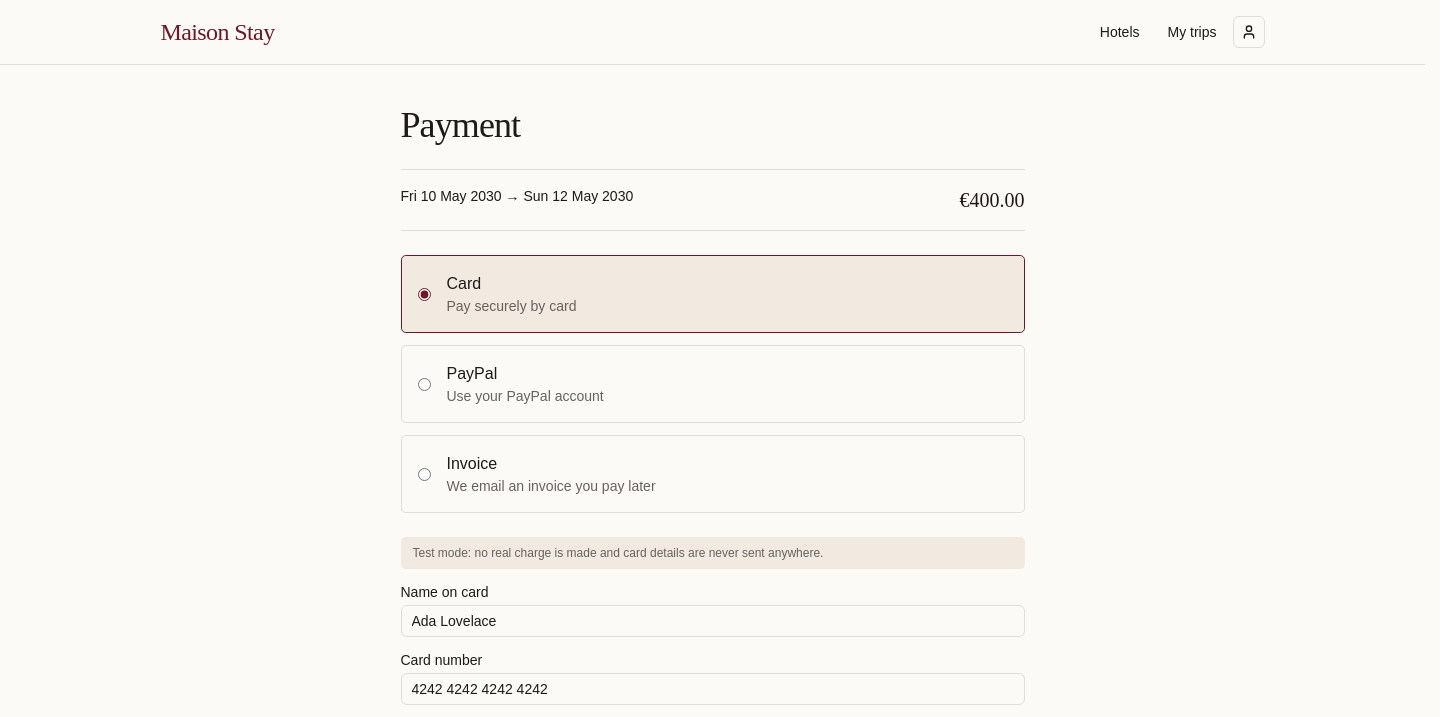
Test: payment › waits for the invoice to be settled instead of simulating a payment
Click the radio button labelled "Invoice We email an invoice you pay later" at point(424, 474), box [418, 468, 430, 480]
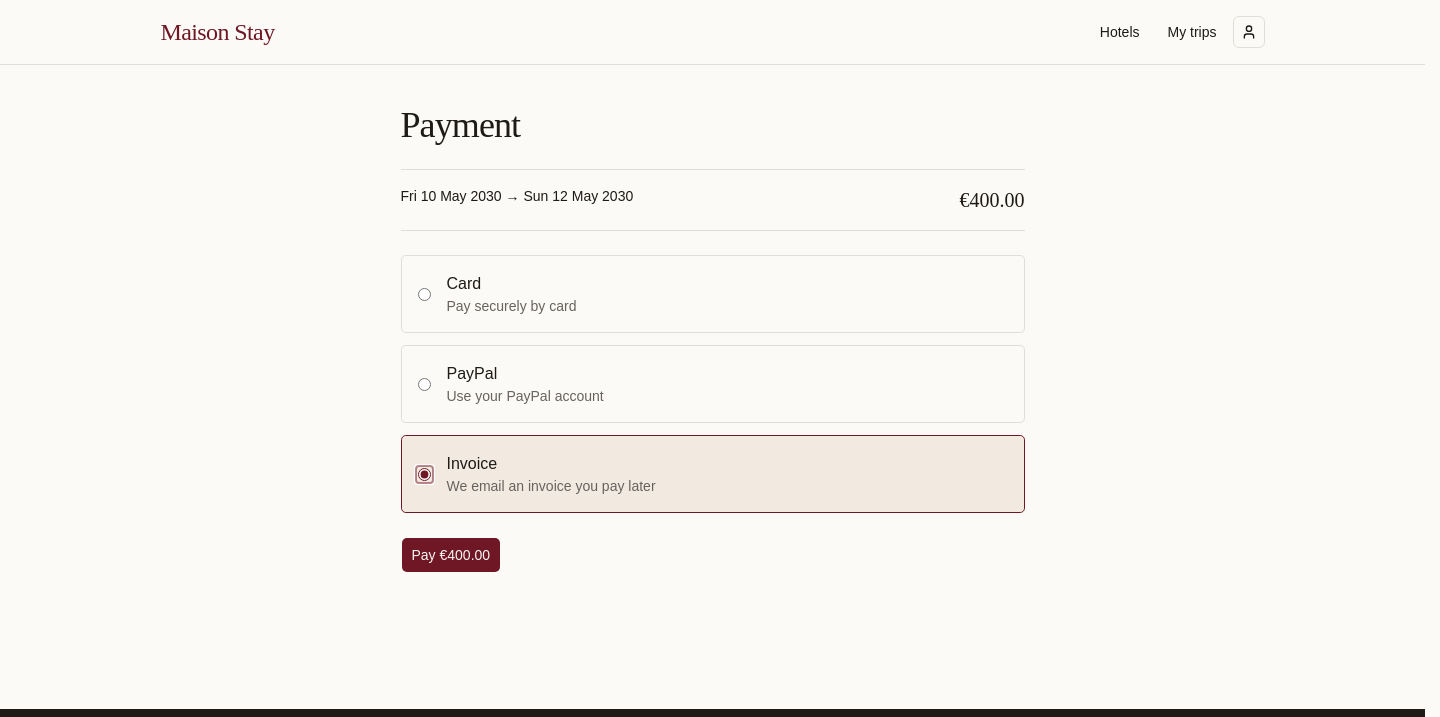
Click the button "Pay €400.00" at point(451, 555), box [400, 537, 501, 573]
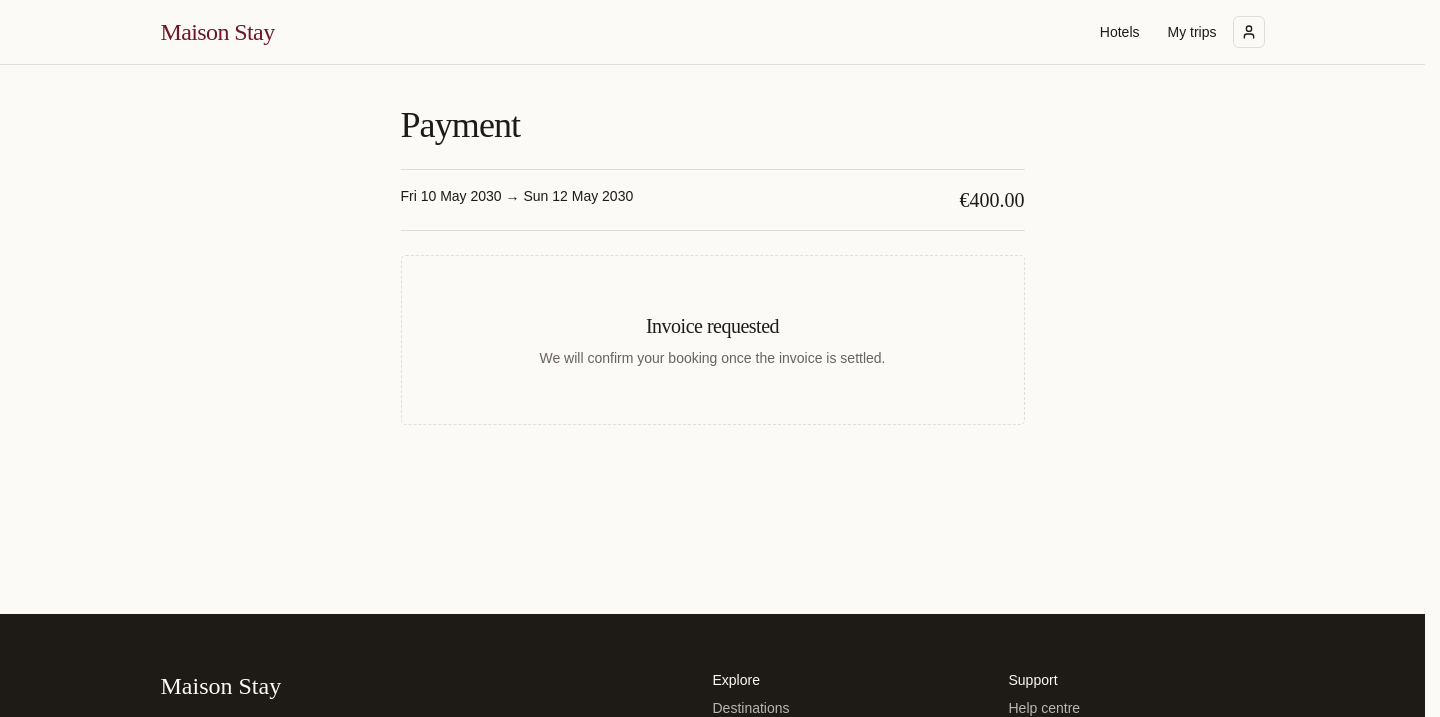
Expected: the heading "Invoice requested" is shown, [646, 315, 779, 337]
